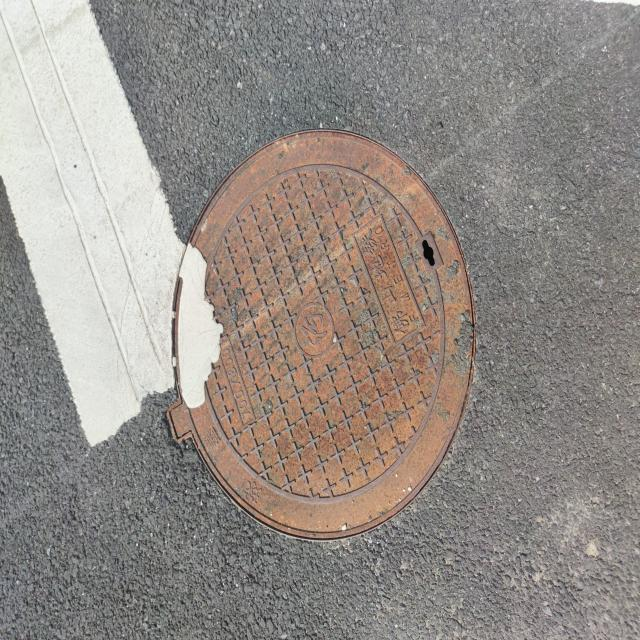Good: (158, 117, 492, 548)
